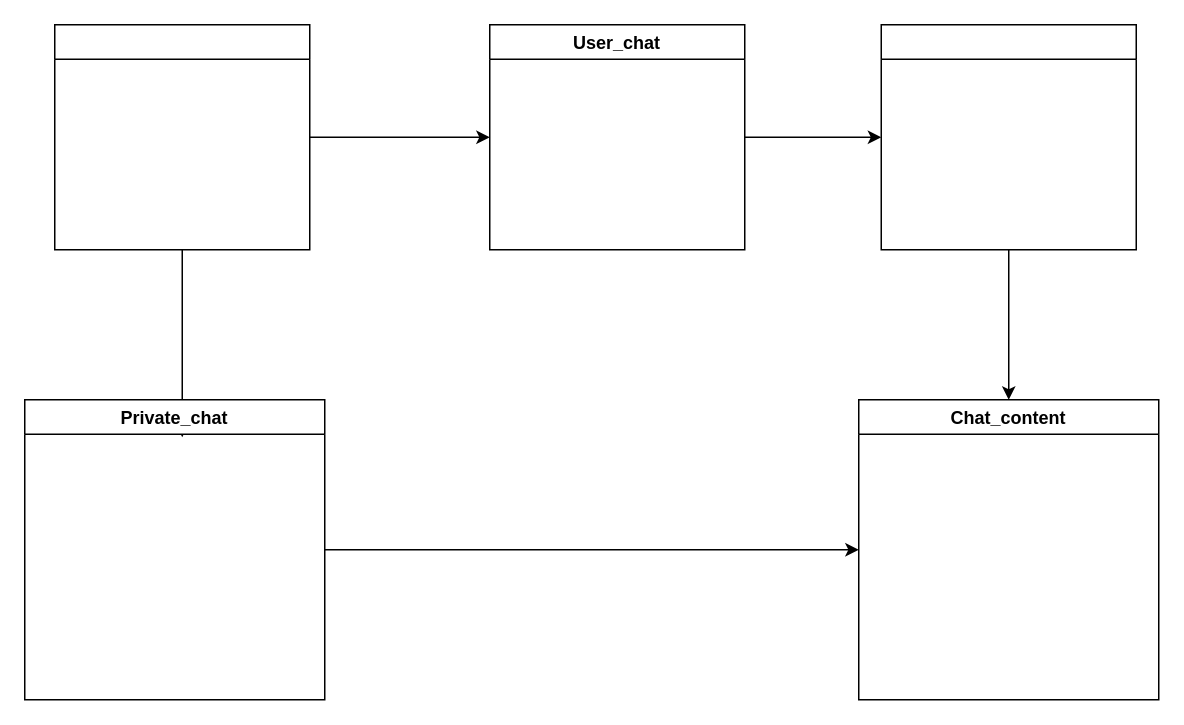
The diagram is 1184 pixels wide and 725 high, and some of its shapes have lost their labels. Each missing label, with the box of its shape:
group_chat: (880, 23, 1136, 250)
User: (53, 23, 310, 250)
